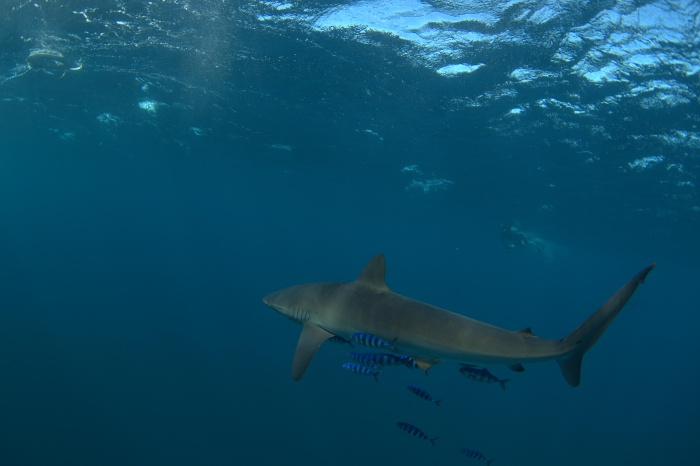Sedoso: (238, 231, 665, 406)
